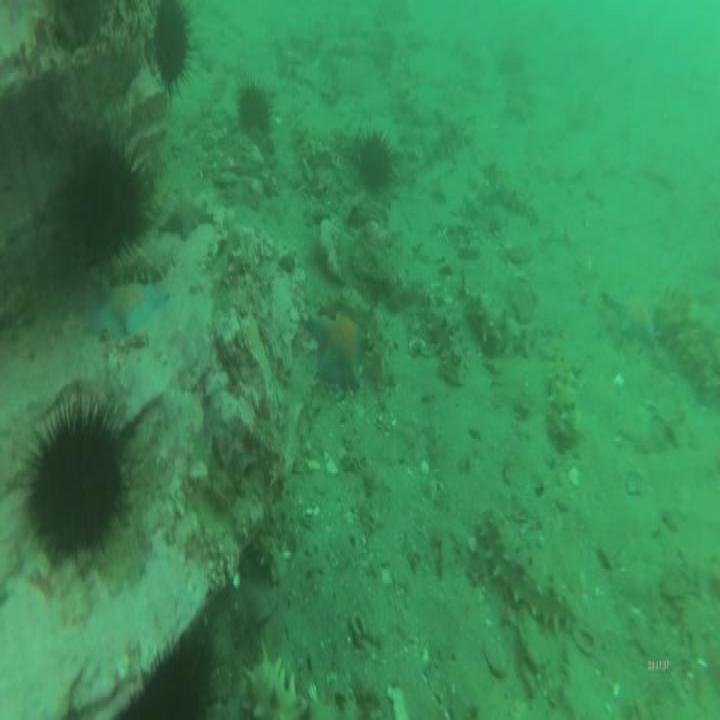echinus: (15, 397, 136, 574), (53, 128, 154, 274), (129, 613, 217, 720), (148, 0, 201, 108), (352, 122, 401, 204), (232, 75, 279, 142)
holothurian: (474, 503, 581, 640), (656, 293, 715, 402), (241, 631, 311, 720), (469, 279, 528, 357), (548, 352, 584, 453), (427, 297, 465, 391), (487, 162, 540, 226), (426, 106, 473, 156)
starfish: (305, 309, 373, 391), (81, 274, 170, 332), (609, 284, 655, 354), (162, 190, 215, 249)
